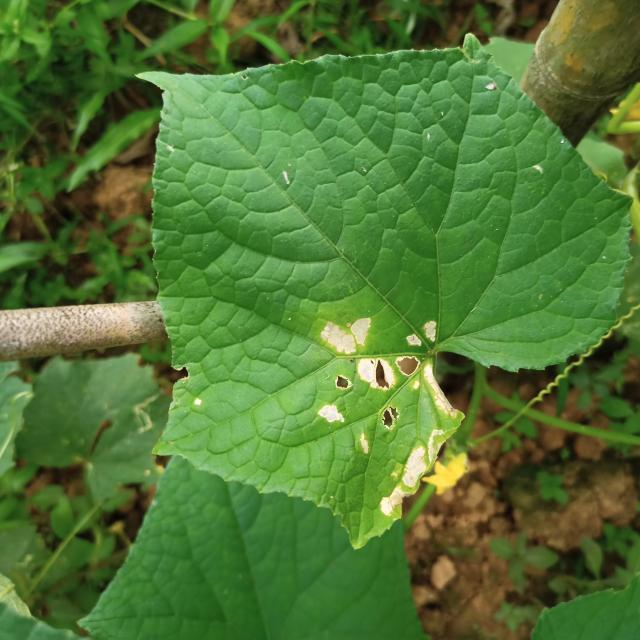disease_cucumber: (318, 314, 458, 518)
